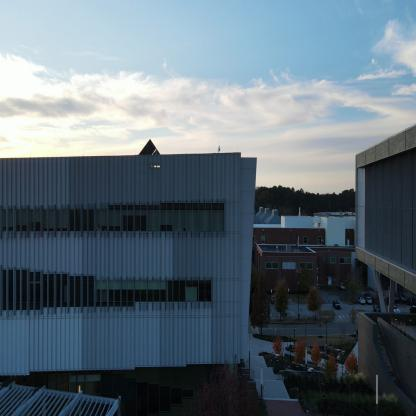Fitts- Woolard: (341, 101, 415, 413)
Hunt Library: (0, 99, 269, 415)
